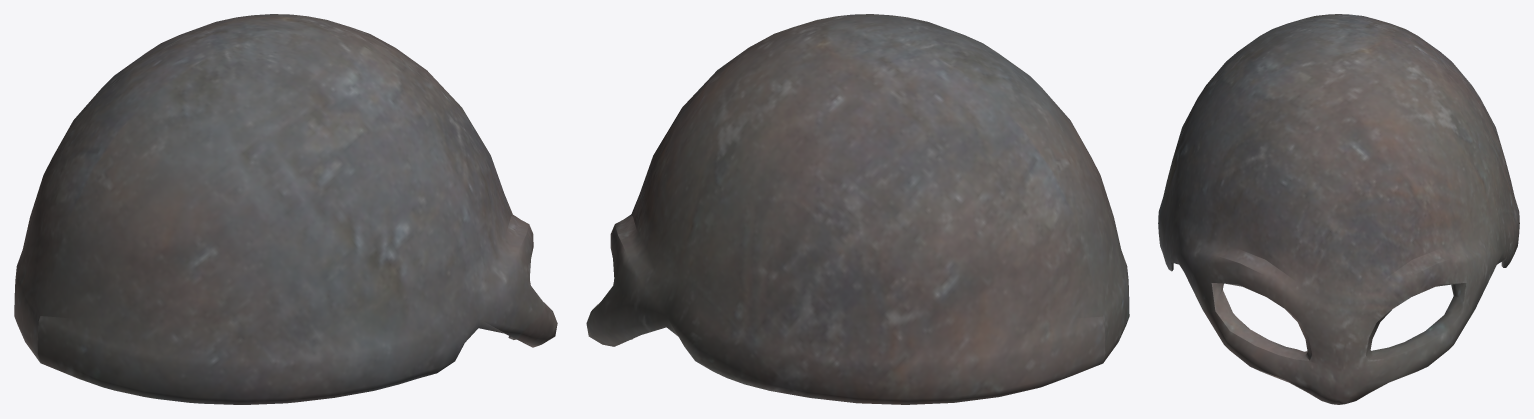
Rendered from elmo_tondo.glb.
The picture shows the model from 3 angles, left to right: view 1: azimuth 30°, elevation 25°; view 2: azimuth 150°, elevation 25°; view 3: azimuth 270°, elevation 25°; orthographic projection. The views are drawn at different scales.
Parts seen in each view (by area): view 1: VikingHelmet; view 2: VikingHelmet; view 3: VikingHelmet.
Boxes of the visible parts, box(x1,y1,x2,y2) form: VikingHelmet: box(14, 14, 557, 404); VikingHelmet: box(586, 14, 1129, 404); VikingHelmet: box(1158, 14, 1519, 404).
Size of the model in its own units: 226 by 158 by 186.
1 material, 1 textured.
